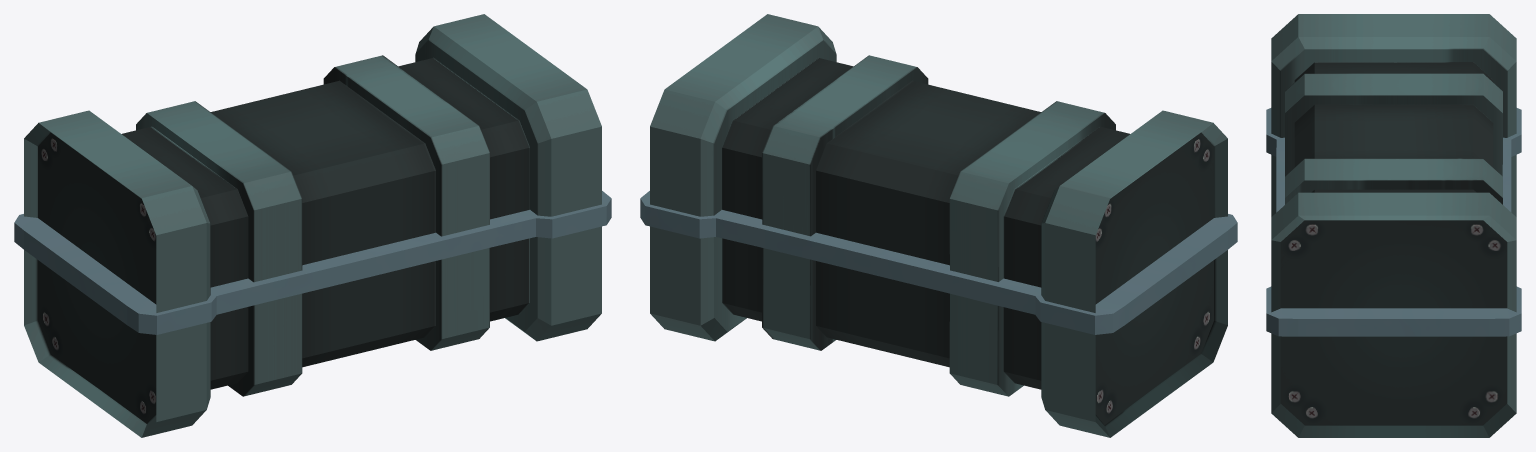
The model's file is crate love.fbx.
3 renders of one model, left to right at view 1: azimuth 30°, elevation 25°; view 2: azimuth 150°, elevation 25°; view 3: azimuth 270°, elevation 25°, orthographic. The views are drawn at different scales.
Parts seen in each view (by area): view 1: Crate; view 2: Crate; view 3: Crate.
Part boxes in pixels (x1,y1,x2,y2): Crate: [14, 14, 611, 437]; Crate: [640, 14, 1237, 437]; Crate: [1266, 14, 1521, 437].
Size of the model in its own units: 2.56 by 1.24 by 1.29.
1 material, 1 textured.
